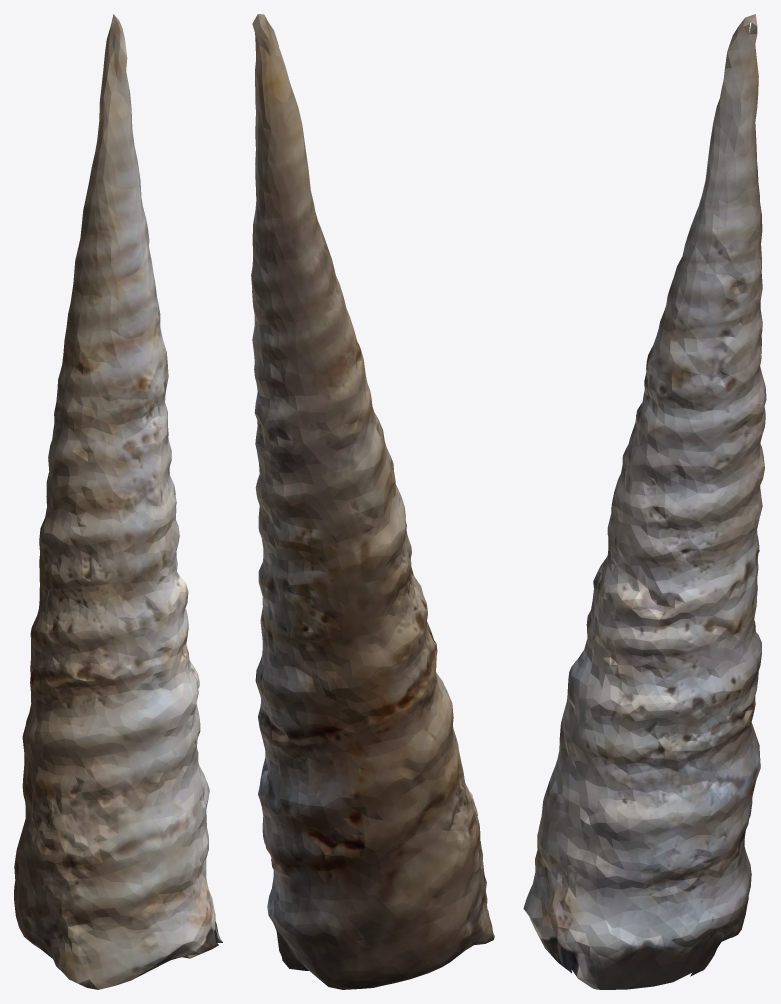
Rendered from Screw Shell.glb.
The picture shows the model from 3 angles, left to right: view 1: azimuth 30°, elevation 25°; view 2: azimuth 150°, elevation 25°; view 3: azimuth 270°, elevation 25°; orthographic projection. The views are drawn at different scales.
Size of the model in its own units: 0.0727 by 0.3537 by 0.0813.
1 material, 1 textured.
